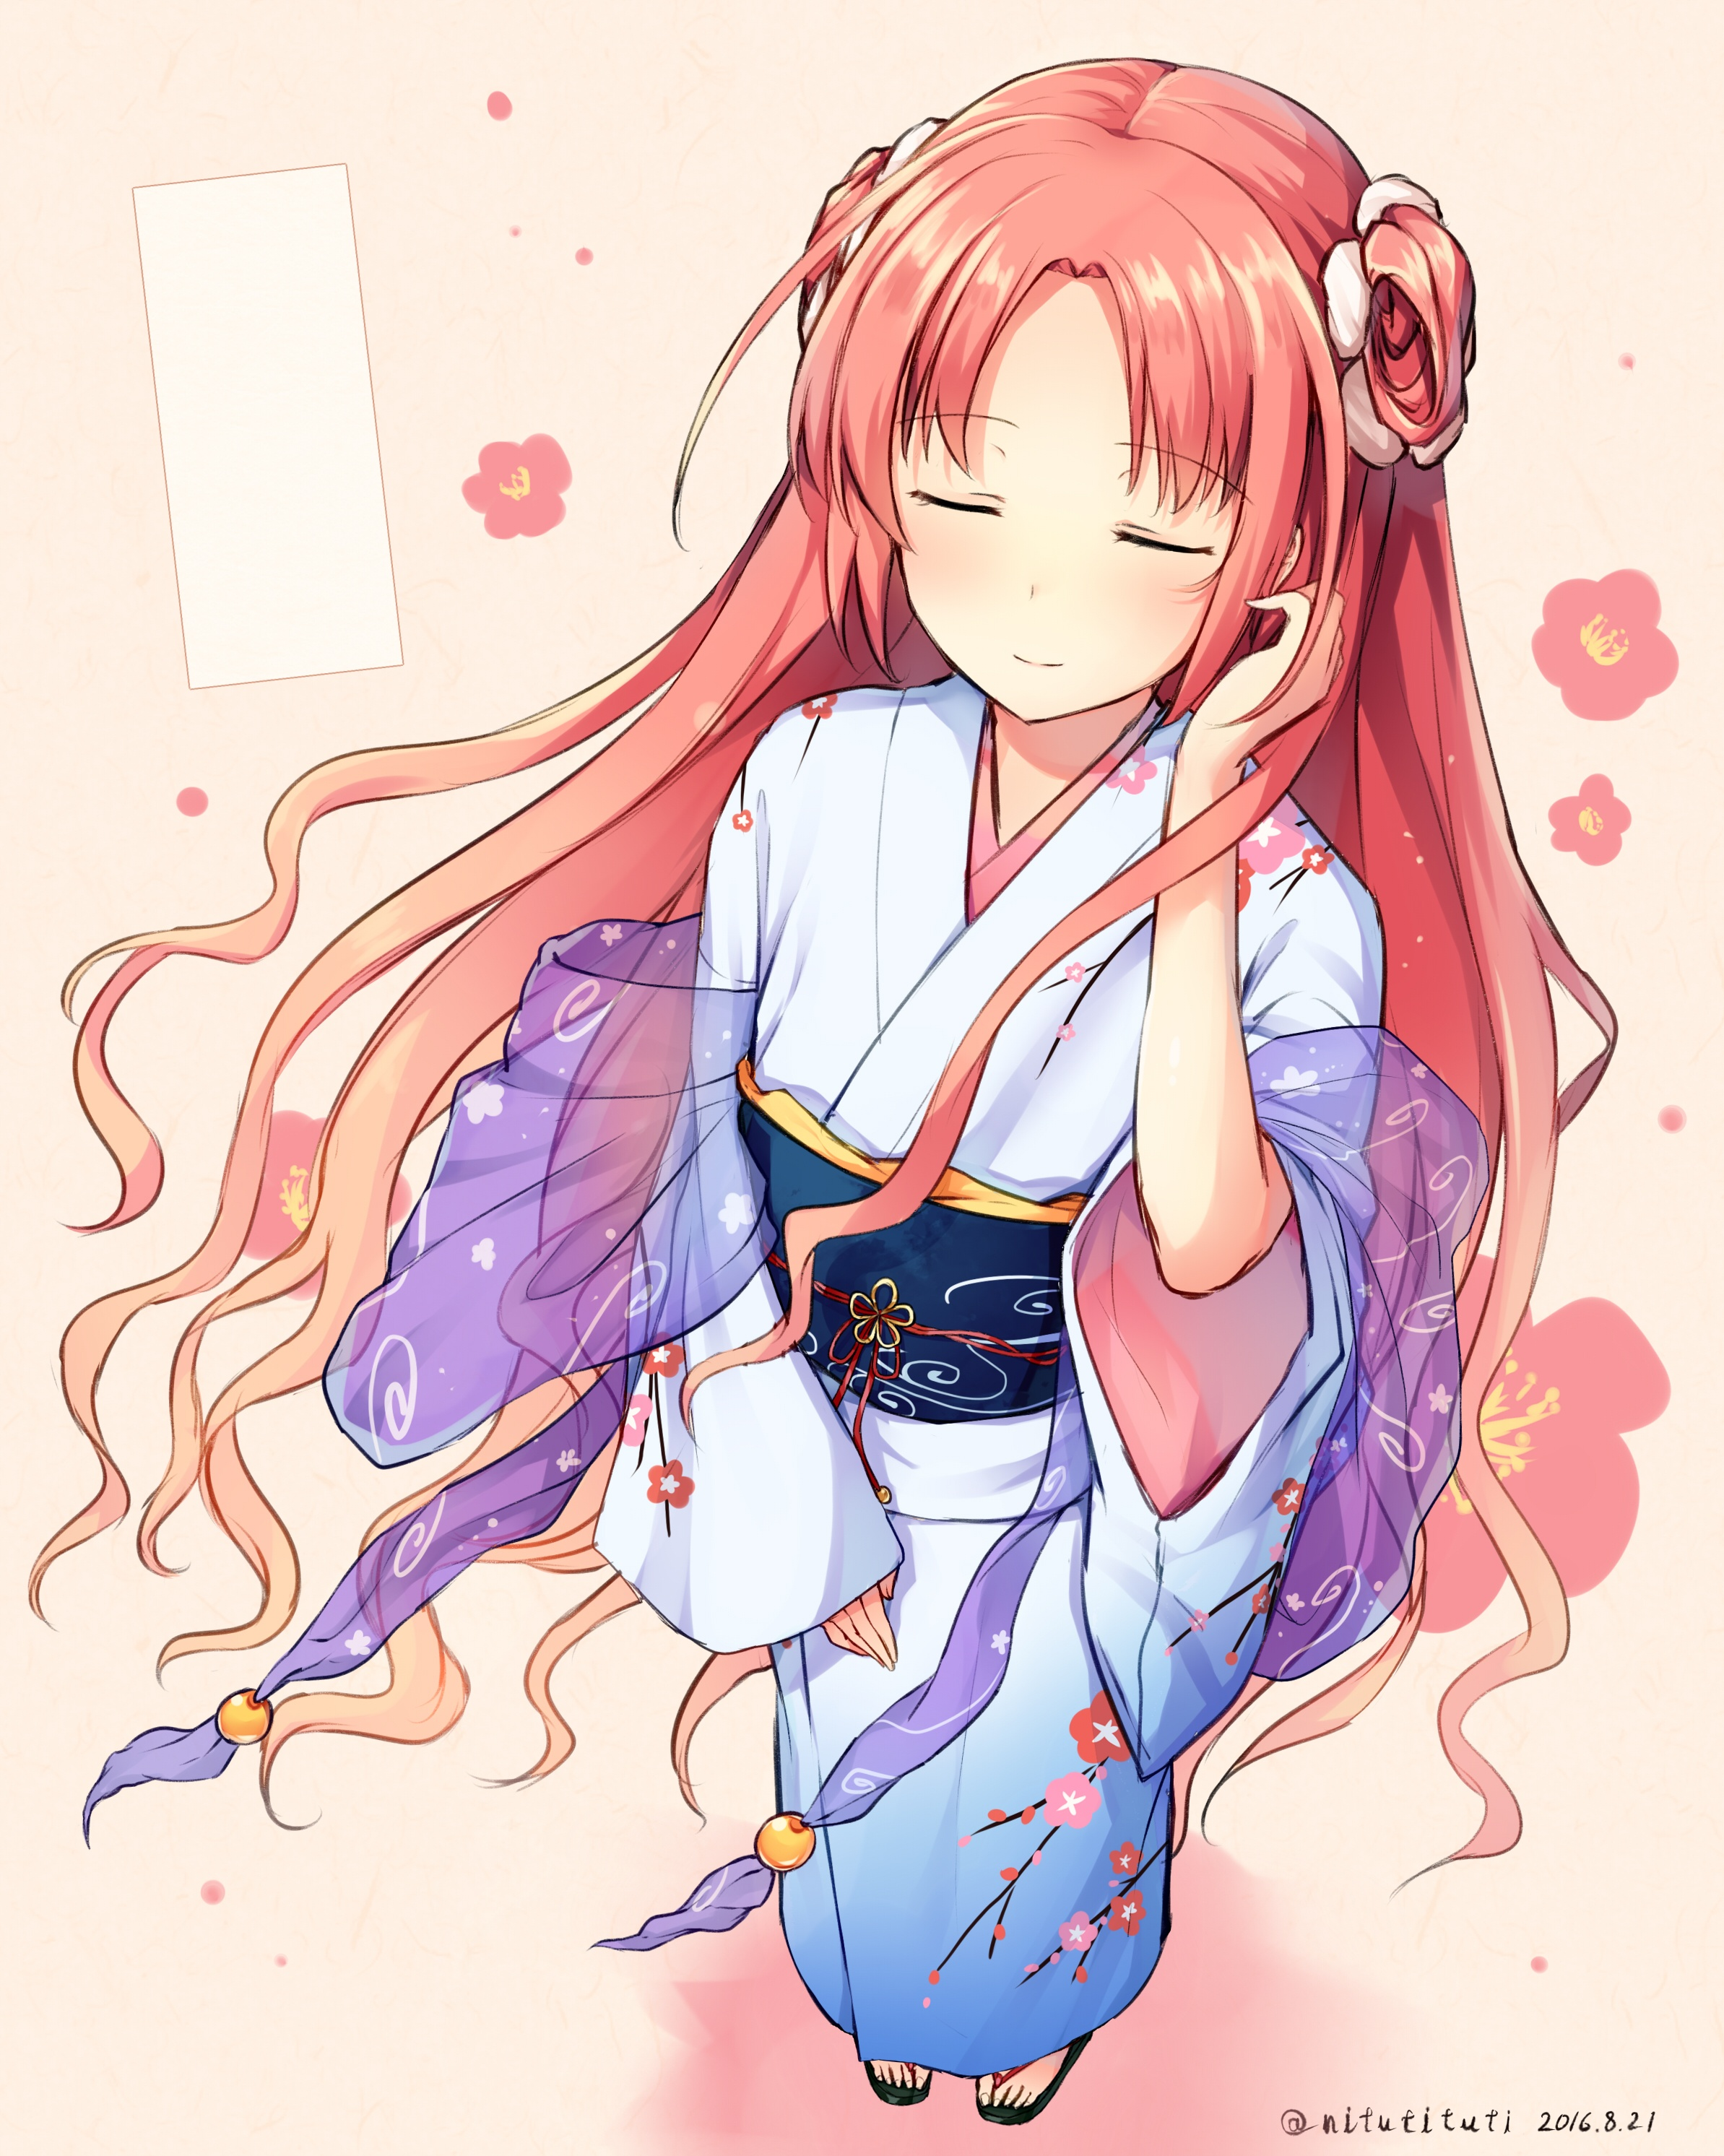纸片人正脸: (769, 50, 1447, 755)
